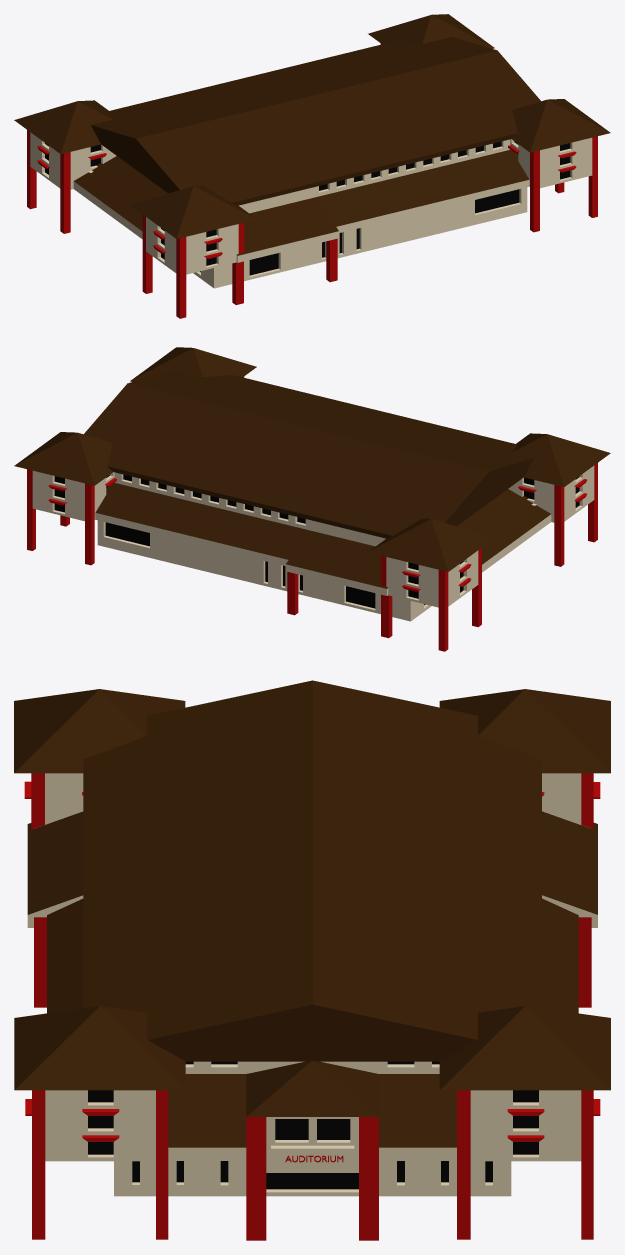
Rendered from GD DAMAR.fbx.
The picture shows the model from 3 angles, top to bottom: view 1: azimuth 30°, elevation 25°; view 2: azimuth 150°, elevation 25°; view 3: azimuth 270°, elevation 25°; orthographic projection. The views are drawn at different scales.
Visible parts, largest first — view 1: Plane, Plane.004, Plane.002, Plane.003, Plane.001; view 2: Plane, Plane.003, Plane.001, Plane.004, Plane.002; view 3: Plane, Plane.002, Plane.001, Plane.004, Plane.003.
Boxes of the visible parts, x1,y1,x2,y2 form: Plane: (73,37,540,304); Plane.004: (130,185,256,318); Plane.002: (508,99,610,232); Plane.003: (14,100,116,233); Plane.001: (368,14,494,48); Plane: (84,370,551,638); Plane.003: (368,518,494,651); Plane.001: (14,432,116,565); Plane.004: (508,433,610,566); Plane.002: (130,347,256,381); Plane: (27,680,597,1240); Plane.002: (14,1006,185,1239); Plane.001: (439,1006,610,1239); Plane.004: (14,689,185,829); Plane.003: (439,689,610,829).
Bounding box in the file's own units: 13877 × 3566 × 8991.
